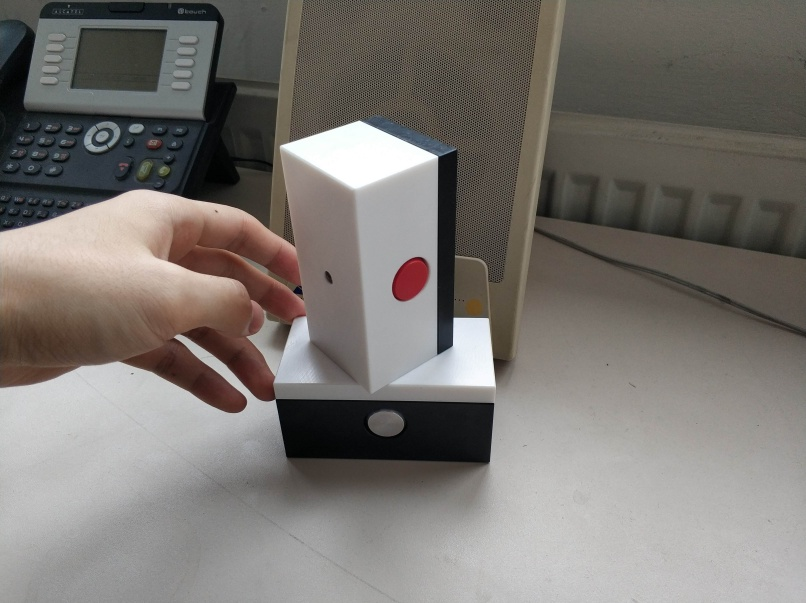black+white+red: (277, 114, 460, 394)
white+black+silver: (272, 315, 499, 468)
